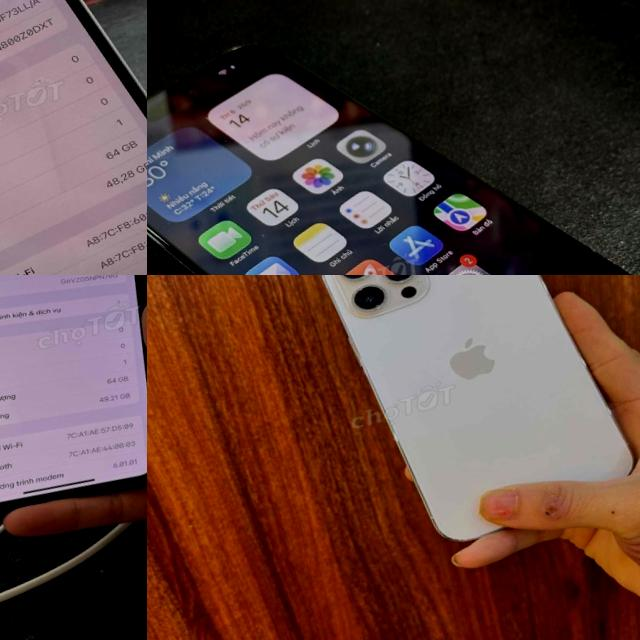gen_11: (0, 275, 147, 510)
gen_12_13: (308, 275, 640, 564), (0, 0, 147, 275)
gen_16: (147, 0, 640, 275)
